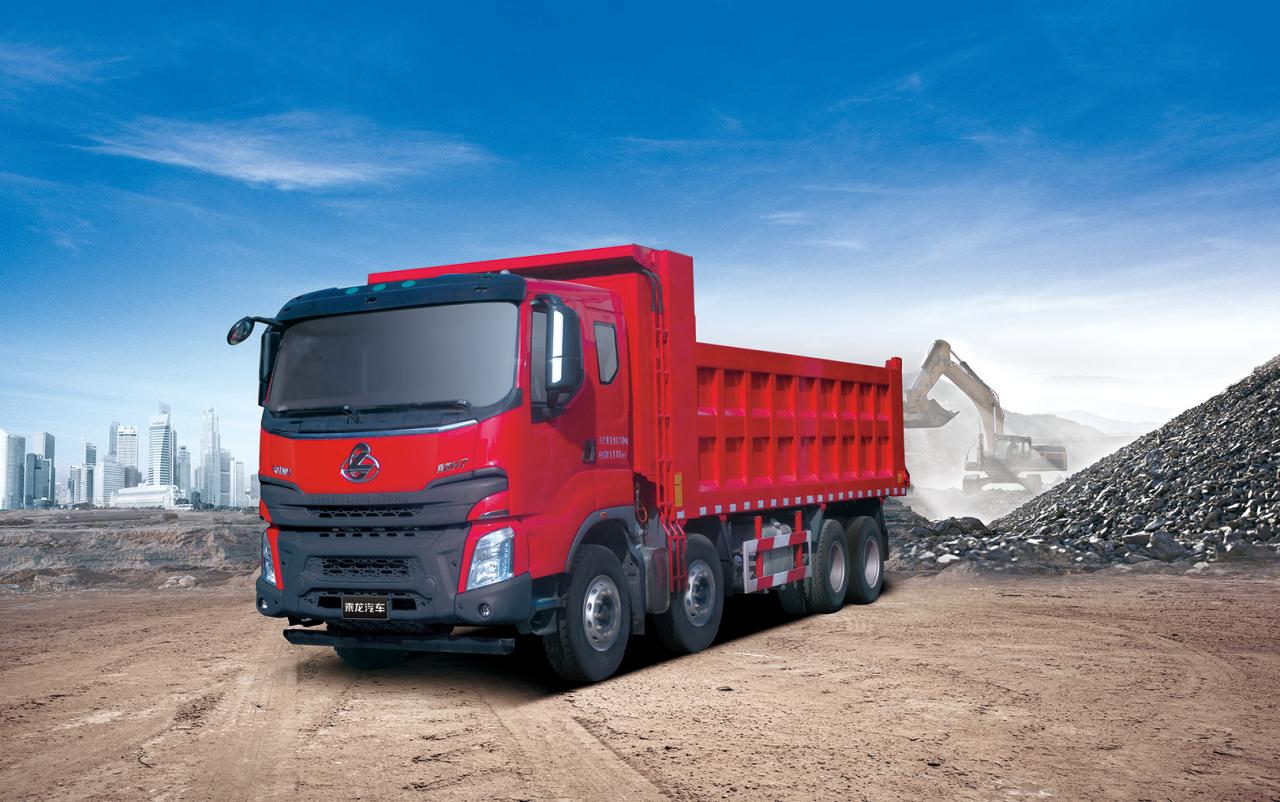truck: (239, 217, 917, 693)
